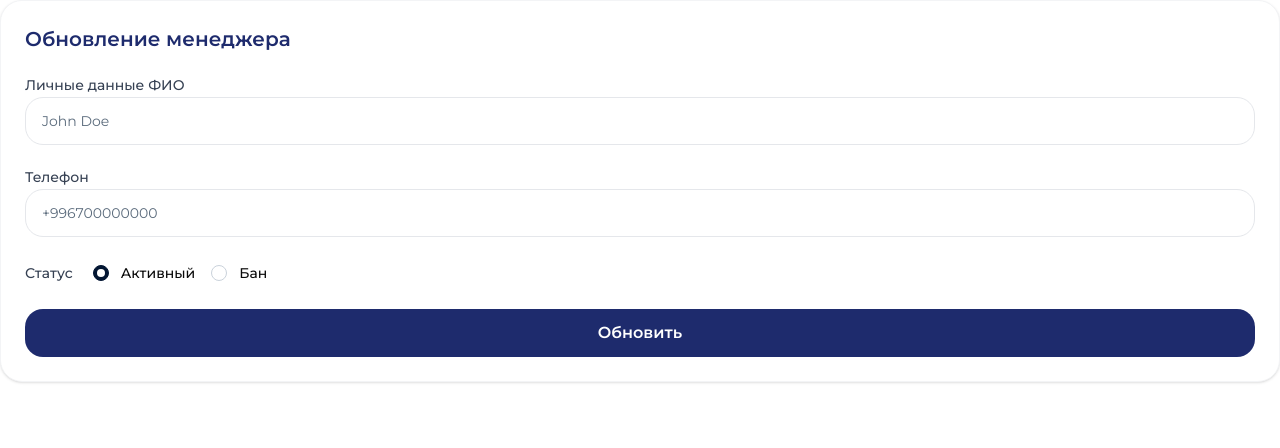
UpdateManagerForm › требует имя и телефон
Click the button "Обновить" at (640,333), box x1=25 y1=309 x2=1255 y2=357
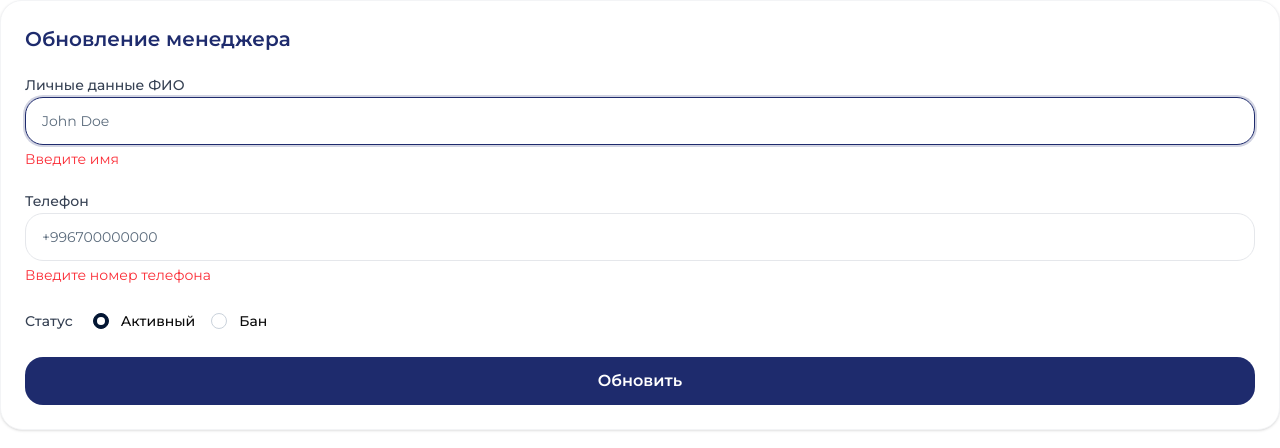
Result: the text "Введите имя" is shown at x1=25 y1=150 x2=119 y2=168
Result: the text "Введите номер телефона" is shown at x1=25 y1=266 x2=211 y2=284
